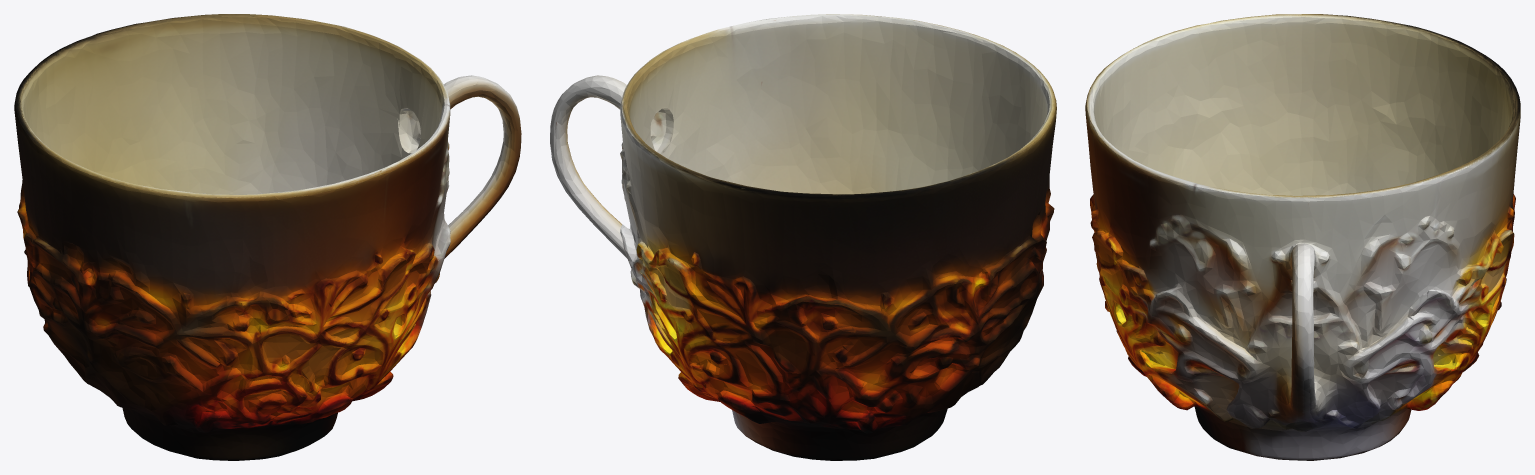
Rendered from porcelain-handcrafted-cup-3d.jpeg.glb.
3 views of the same model, side by side, from view 1: azimuth 30°, elevation 25°; view 2: azimuth 150°, elevation 25°; view 3: azimuth 270°, elevation 25° (orthographic).
Visible parts, largest first — view 1: world; view 2: world; view 3: world.
Part boxes in pixels (x1,y1,x2,y2): world: [14, 14, 521, 460]; world: [550, 14, 1056, 460]; world: [1085, 14, 1520, 460].
Size of the model in its own units: 1 by 0.6334 by 0.795.
1 material, 1 textured.
